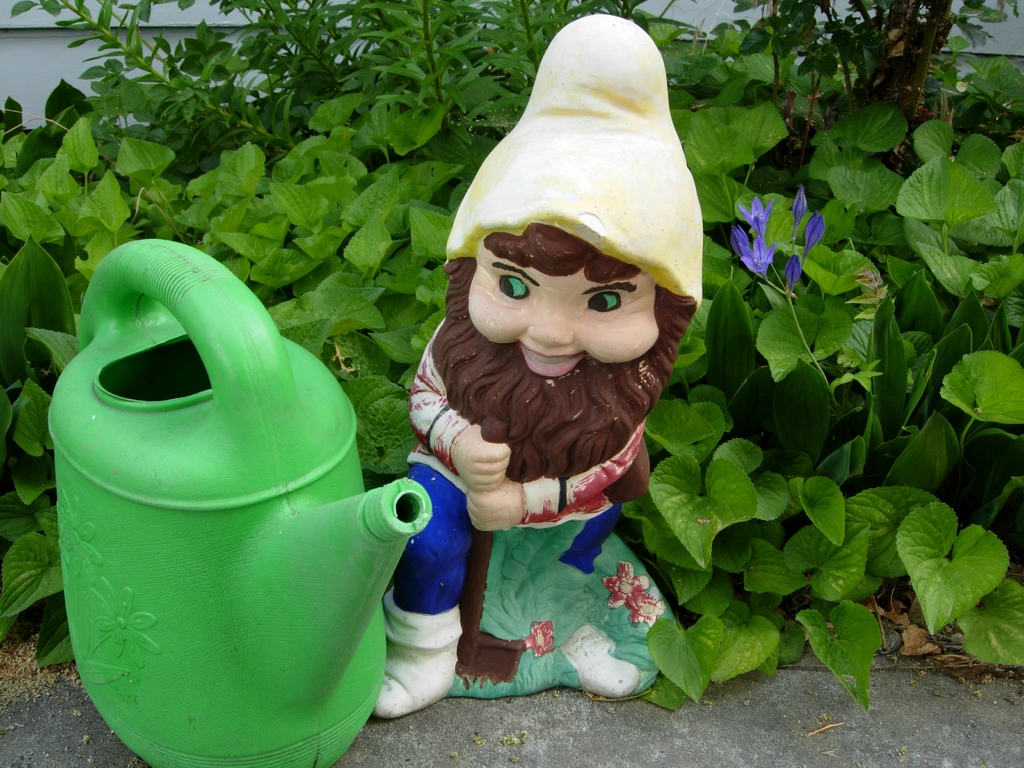Person: (375, 12, 703, 718)
